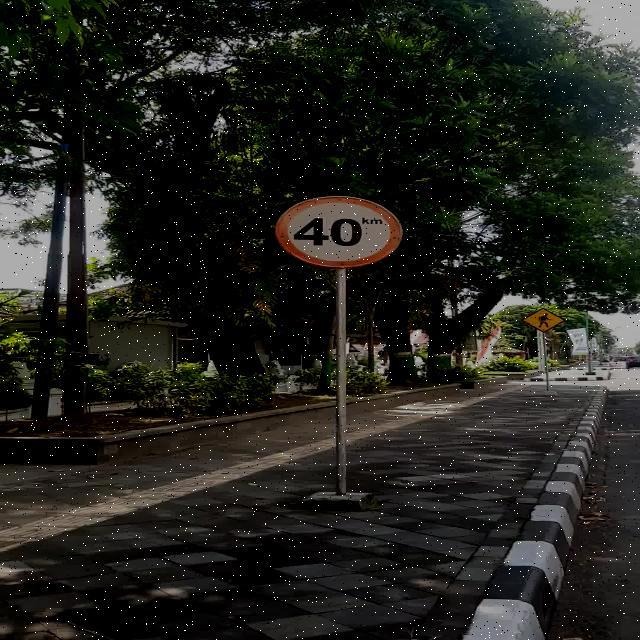Kecepatan Maks. 40 km: (274, 195, 404, 267)
